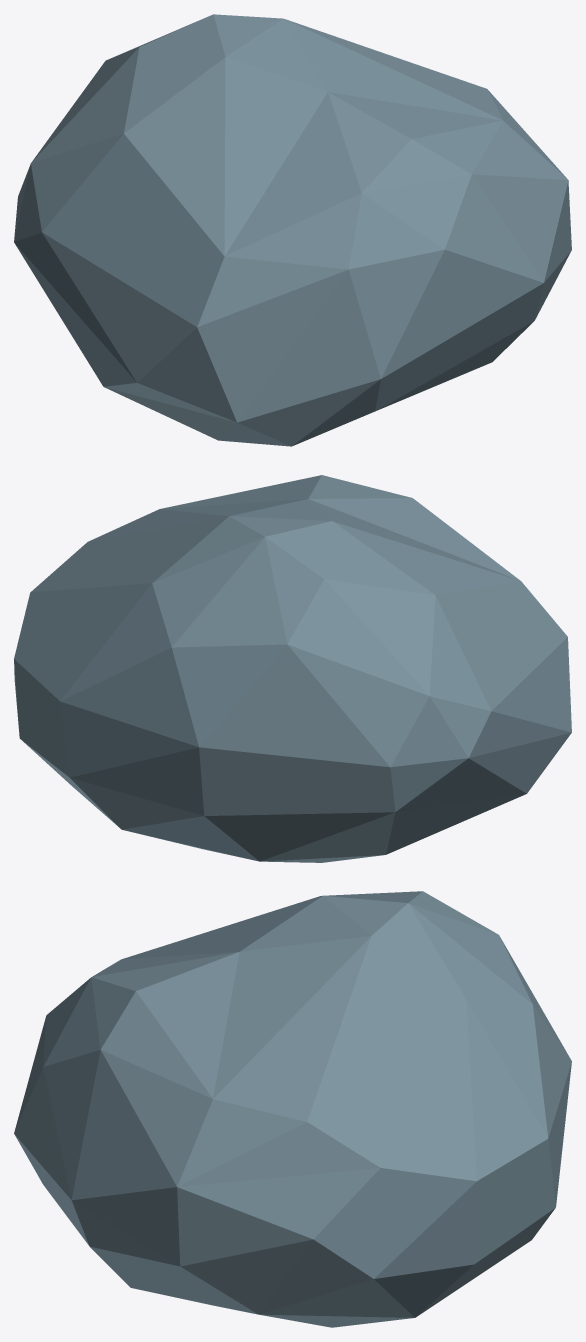
File: Rock2.fbx
3 renders of one model, top to bottom at view 1: azimuth 30°, elevation 25°; view 2: azimuth 150°, elevation 25°; view 3: azimuth 270°, elevation 25°, orthographic. The views are drawn at different scales.
Visible parts, largest first — view 1: Rock2; view 2: Rock2; view 3: Rock2.
Part boxes in pixels (left/top/right/bottom): Rock2: left=14, top=14, right=571, bottom=446; Rock2: left=14, top=475, right=571, bottom=862; Rock2: left=14, top=891, right=571, bottom=1327.
Bounding box in the file's own units: 87.14 × 58.85 × 82.07.
